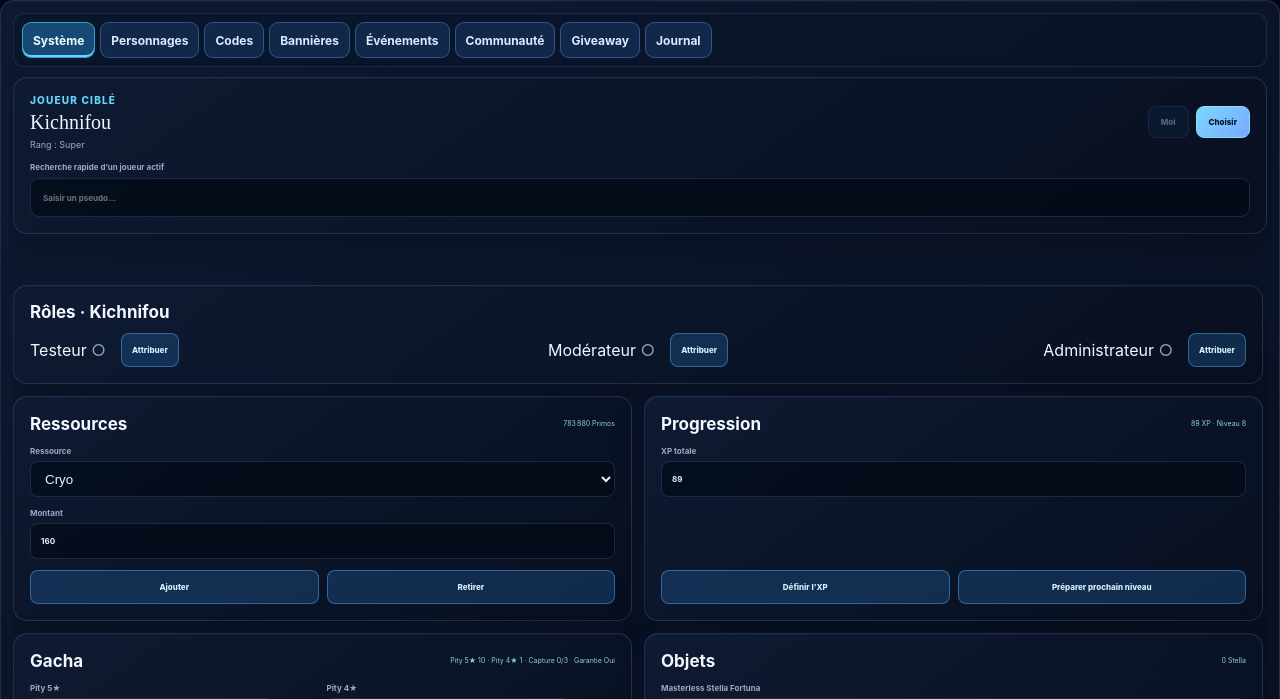
Test: ModerationScreen › shows authoritative current values and changes the resource summary with its selector
expect the text with class "moderation-current" reads "783 880 Primos": met, box top-left (563, 420), bottom-right (615, 428)
expect the text with class "moderation-current" reads "89 XP · Niveau 8": met, box top-left (1191, 420), bottom-right (1246, 428)
Select "Cryo" in the dropdown labelled "Ressource" at (322, 479), box top-left (30, 461), bottom-right (615, 497)
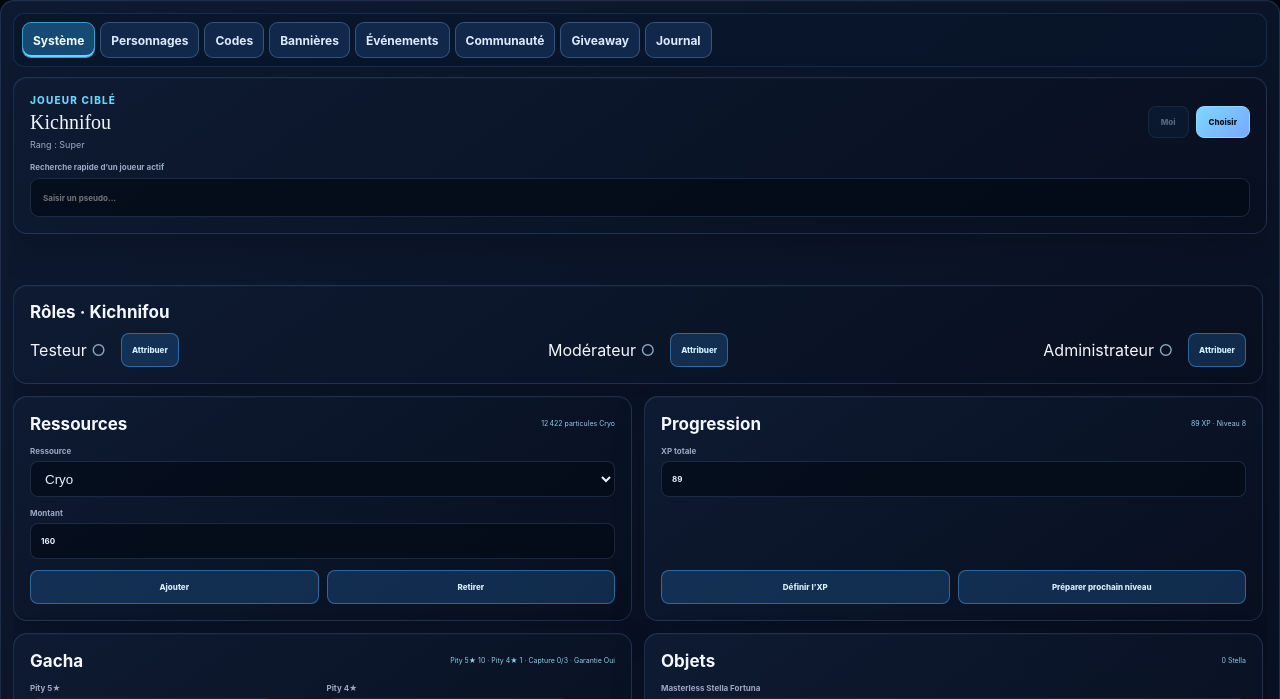
expect the text with class "moderation-current" reads "12 422 particules Cryo": met, box top-left (541, 420), bottom-right (615, 428)
